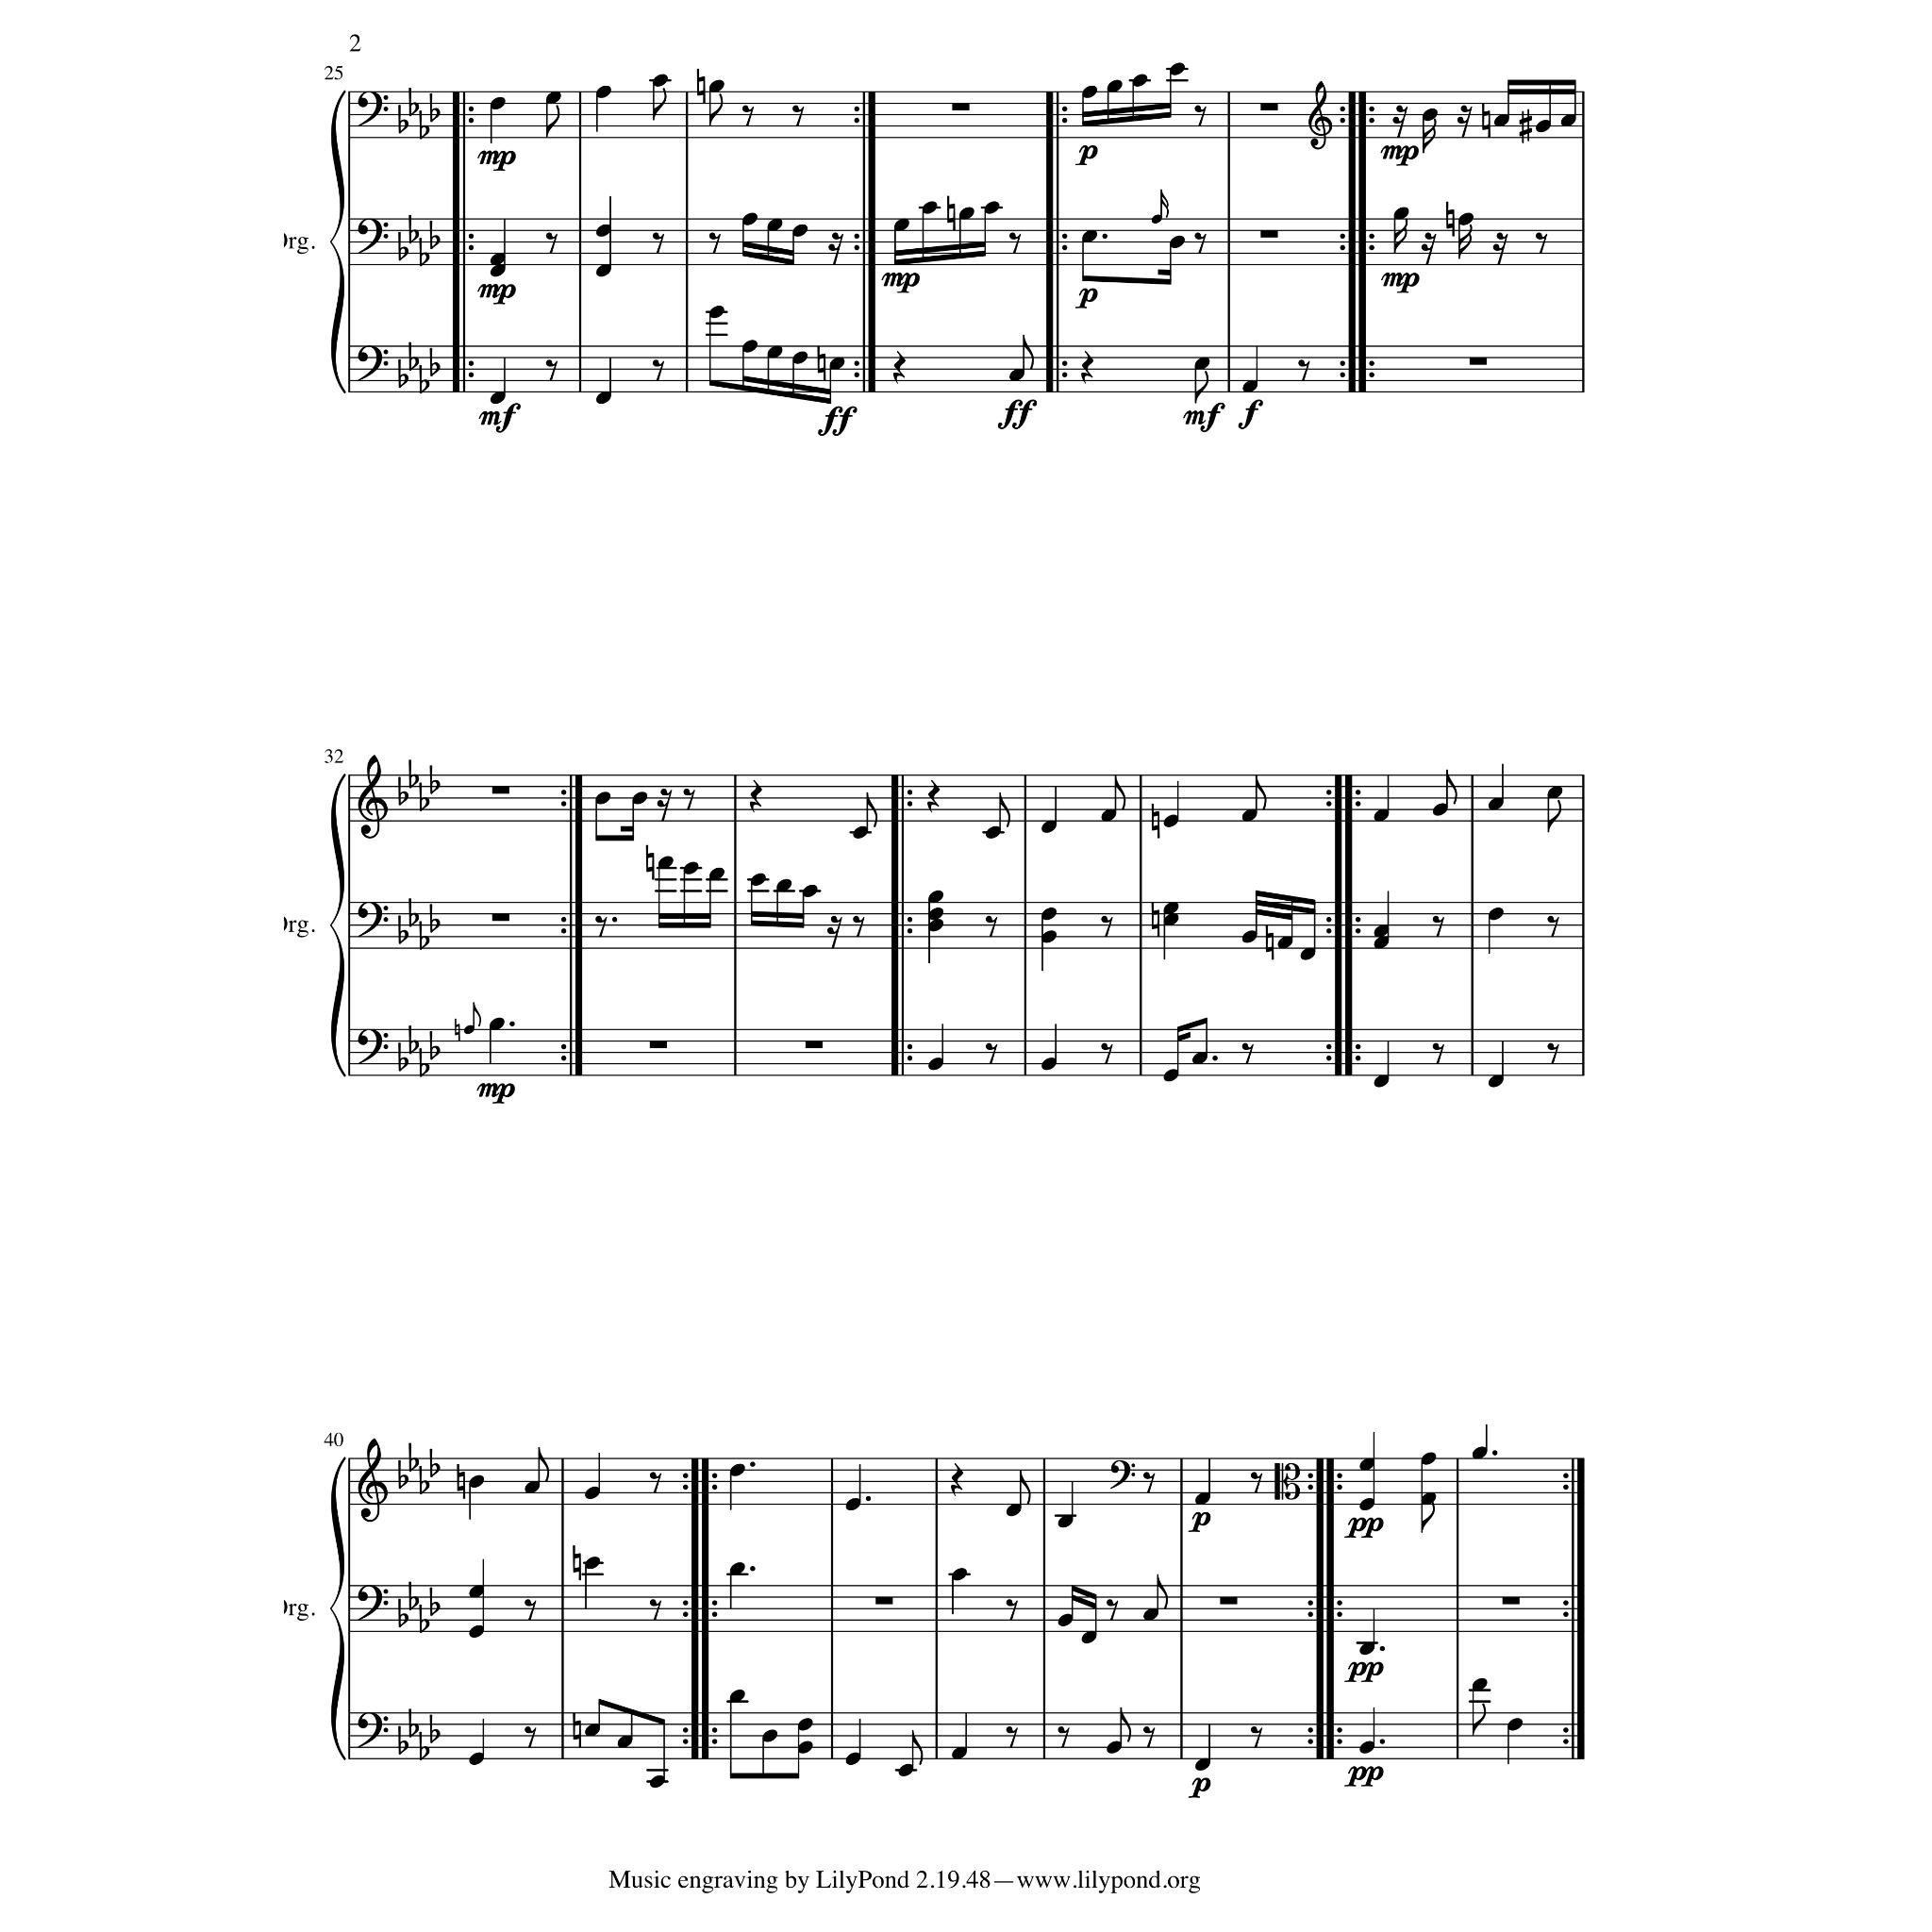brace: (329, 91, 346, 394), (329, 774, 346, 1077), (329, 1457, 346, 1761)
fClef: (357, 345, 389, 383), (357, 91, 389, 128), (357, 1711, 389, 1749), (357, 219, 389, 255), (357, 1029, 389, 1065), (357, 902, 389, 938), (357, 1585, 389, 1621)
flag16thDown: (1423, 118, 1438, 154), (1459, 224, 1473, 259), (1394, 219, 1407, 253)
flag16thUp: (1160, 189, 1170, 219)
flag8thDown: (1421, 1500, 1436, 1534), (1194, 372, 1209, 404), (545, 106, 560, 138), (1547, 800, 1562, 832), (1472, 1704, 1487, 1736), (653, 89, 666, 121), (709, 94, 723, 126)
flag8thUp: (1023, 335, 1034, 371), (1256, 775, 1267, 811), (1115, 775, 1126, 811), (1446, 770, 1457, 806), (999, 792, 1010, 828), (866, 792, 877, 828), (1020, 1470, 1031, 1506), (1120, 1707, 1131, 1743), (539, 1447, 550, 1483), (912, 1730, 924, 1766), (1157, 1575, 1168, 1609), (474, 1002, 481, 1028)
gClef: (358, 755, 388, 840), (358, 1438, 388, 1523)
noteheadBlack: (1241, 380, 1258, 393), (1081, 230, 1098, 243), (1081, 86, 1098, 99), (1560, 114, 1577, 127), (1392, 208, 1409, 221), (708, 80, 724, 93), (708, 306, 724, 319), (489, 97, 506, 110), (489, 264, 506, 277), (489, 253, 506, 266), (489, 391, 506, 405), (594, 86, 611, 99), (594, 264, 611, 277), (594, 225, 611, 238), (594, 391, 611, 405), (958, 208, 975, 221), (921, 202, 938, 215), (983, 202, 1000, 215), (828, 358, 845, 371), (766, 219, 783, 232), (766, 346, 783, 359), (1241, 931, 1258, 944), (1241, 809, 1258, 823), (1162, 1070, 1179, 1083), (1162, 902, 1179, 915), (1162, 913, 1179, 926), (1162, 815, 1179, 828), (1432, 804, 1449, 817), (657, 856, 674, 869), (749, 874, 766, 887), (594, 792, 611, 806), (985, 826, 1002, 840), (775, 879, 792, 892), (1006, 1504, 1023, 1517), (1194, 1758, 1211, 1772), (1194, 1492, 1211, 1506), (1057, 1515, 1074, 1528), (1057, 1614, 1074, 1627), (1472, 1678, 1489, 1691), (1472, 1447, 1489, 1460), (1358, 1741, 1375, 1755), (1358, 1642, 1375, 1656), (1358, 1458, 1375, 1472), (1358, 1498, 1375, 1511), (649, 1775, 666, 1789), (951, 1747, 968, 1760), (951, 1568, 968, 1581), (796, 1718, 813, 1731), (796, 1741, 813, 1755), (1170, 63, 1185, 76), (1194, 358, 1209, 371), (1170, 236, 1185, 249), (1009, 369, 1024, 382), (1108, 80, 1123, 93), (1132, 75, 1147, 88), (1536, 120, 1551, 133), (1494, 114, 1509, 127), (1458, 212, 1474, 225), (1423, 108, 1438, 122), (653, 75, 668, 88), (545, 92, 560, 105), (894, 219, 909, 232), (742, 212, 758, 225), (742, 341, 758, 354), (792, 225, 808, 238), (792, 351, 808, 364), (1192, 1052, 1207, 1065), (1300, 948, 1315, 961), (1277, 936, 1292, 949), (1101, 809, 1116, 823), (1547, 786, 1562, 799), (1374, 1074, 1389, 1088), (1374, 924, 1389, 938), (1374, 936, 1389, 949), (1374, 809, 1389, 823), (1489, 1074, 1504, 1088), (1489, 908, 1504, 921), (1489, 797, 1504, 810), (632, 792, 647, 806), (709, 868, 724, 881), (683, 862, 698, 875), (489, 1018, 504, 1031), (928, 891, 943, 904), (928, 908, 943, 921), (928, 919, 943, 932), (1041, 1058, 1057, 1071), (1041, 908, 1057, 921), (1041, 931, 1057, 944), (1041, 821, 1057, 834), (928, 1058, 943, 1071), (802, 885, 817, 898), (853, 826, 868, 840), (1143, 1608, 1158, 1622), (1107, 1741, 1122, 1755), (1081, 1631, 1096, 1644), (1507, 1718, 1523, 1731), (1421, 1453, 1436, 1466), (1421, 1492, 1436, 1506), (585, 1724, 600, 1737), (585, 1557, 600, 1570), (585, 1487, 600, 1500), (730, 1690, 745, 1703), (730, 1562, 745, 1575), (730, 1464, 745, 1477), (617, 1735, 632, 1748), (469, 1475, 484, 1489), (525, 1481, 540, 1494), (469, 1753, 484, 1766), (469, 1585, 484, 1598), (469, 1625, 484, 1639), (898, 1764, 913, 1777), (845, 1498, 860, 1511), (845, 1753, 860, 1766), (762, 1730, 777, 1743), (463, 1024, 475, 1036), (1151, 215, 1162, 225)
rest16th: (1457, 106, 1474, 140), (1421, 232, 1438, 266), (826, 916, 843, 950), (1392, 106, 1407, 140), (1492, 232, 1507, 266), (828, 232, 843, 266), (657, 789, 672, 823)
rest8th: (1006, 1726, 1019, 1749), (1057, 1726, 1070, 1749), (649, 1472, 662, 1494), (741, 106, 755, 126), (1241, 1043, 1255, 1064), (1100, 1043, 1113, 1064), (1100, 917, 1113, 938), (1432, 1043, 1445, 1064), (1432, 917, 1445, 938), (594, 917, 608, 938), (985, 1043, 998, 1064), (985, 917, 998, 938), (852, 917, 865, 938), (1006, 1600, 1019, 1621), (1106, 1600, 1119, 1621), (649, 1600, 662, 1621), (1194, 232, 1206, 255), (1009, 232, 1021, 255), (1536, 232, 1547, 255), (653, 232, 664, 255), (709, 232, 721, 255), (545, 232, 557, 255), (683, 789, 694, 811), (1143, 1726, 1155, 1749), (1143, 1472, 1155, 1494), (1251, 1726, 1262, 1749), (1251, 1472, 1262, 1494), (525, 1726, 536, 1749), (1194, 106, 1206, 126), (1298, 360, 1309, 381), (653, 360, 664, 381), (545, 360, 557, 381), (792, 106, 804, 126), (1547, 1043, 1558, 1064), (1547, 917, 1558, 938), (525, 1600, 536, 1621)
restQuarter: (1080, 351, 1093, 385), (892, 351, 906, 385), (749, 780, 762, 814), (926, 780, 940, 814), (950, 1463, 963, 1497)
restWhole: (1469, 357, 1488, 366), (491, 913, 509, 923), (1219, 1596, 1238, 1606), (1502, 1596, 1521, 1606), (1260, 230, 1277, 240), (875, 1596, 892, 1606), (951, 104, 970, 111), (804, 1041, 823, 1049), (491, 787, 509, 794), (1260, 104, 1277, 111), (649, 1041, 666, 1049)
